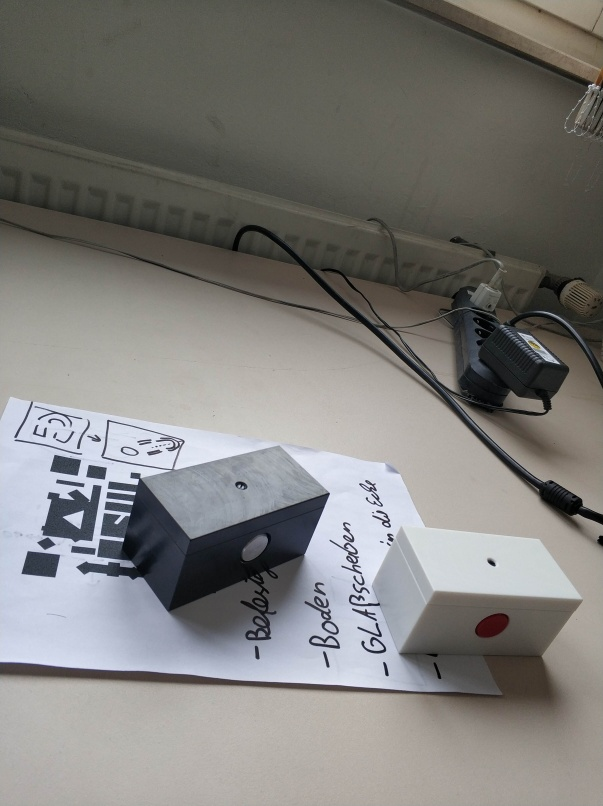black+black+silver: (120, 442, 334, 615)
white+white+red: (367, 521, 588, 660)
